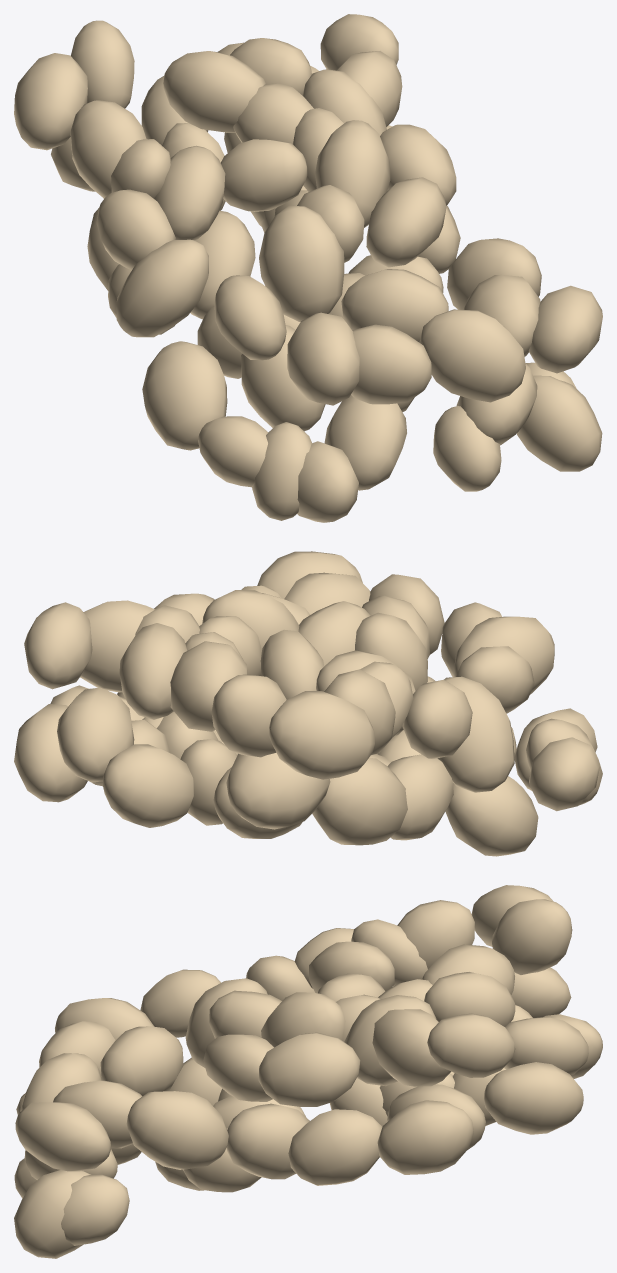
Rendered from lemons.fbx.
3 views of the same model, one above another, from view 1: azimuth 30°, elevation 25°; view 2: azimuth 150°, elevation 25°; view 3: azimuth 270°, elevation 25° (orthographic). The views are drawn at different scales.
Visible parts, largest first — view 1: Sphere.019; view 2: Sphere.019; view 3: Sphere.019.
Part boxes in pixels (x1=…): Sphere.019: x1=14, y1=14, x2=602, y2=522; Sphere.019: x1=14, y1=551, x2=602, y2=856; Sphere.019: x1=14, y1=885, x2=602, y2=1258.
Bounding box in the file's own units: 35.05 × 26.39 × 52.53.
